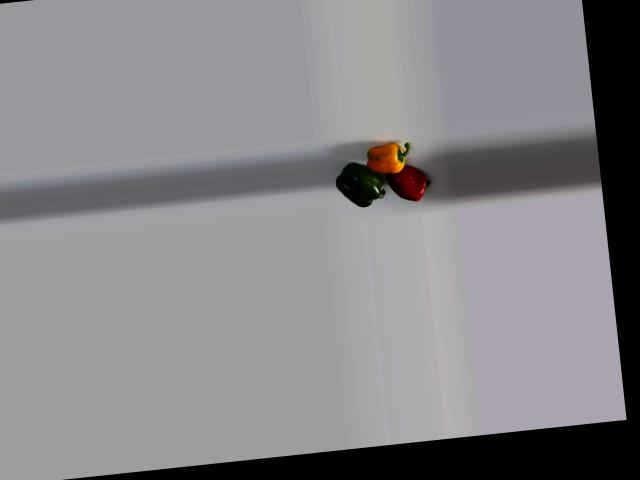bell_pepper: (364, 137, 413, 182)
